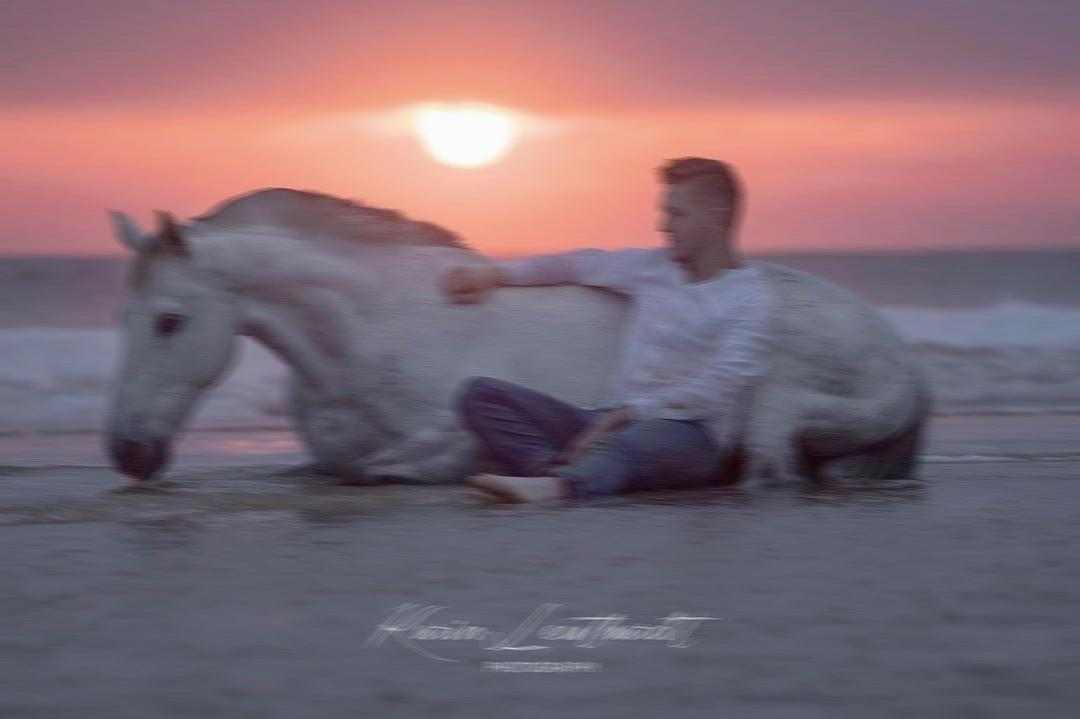horse: (102, 184, 934, 493)
